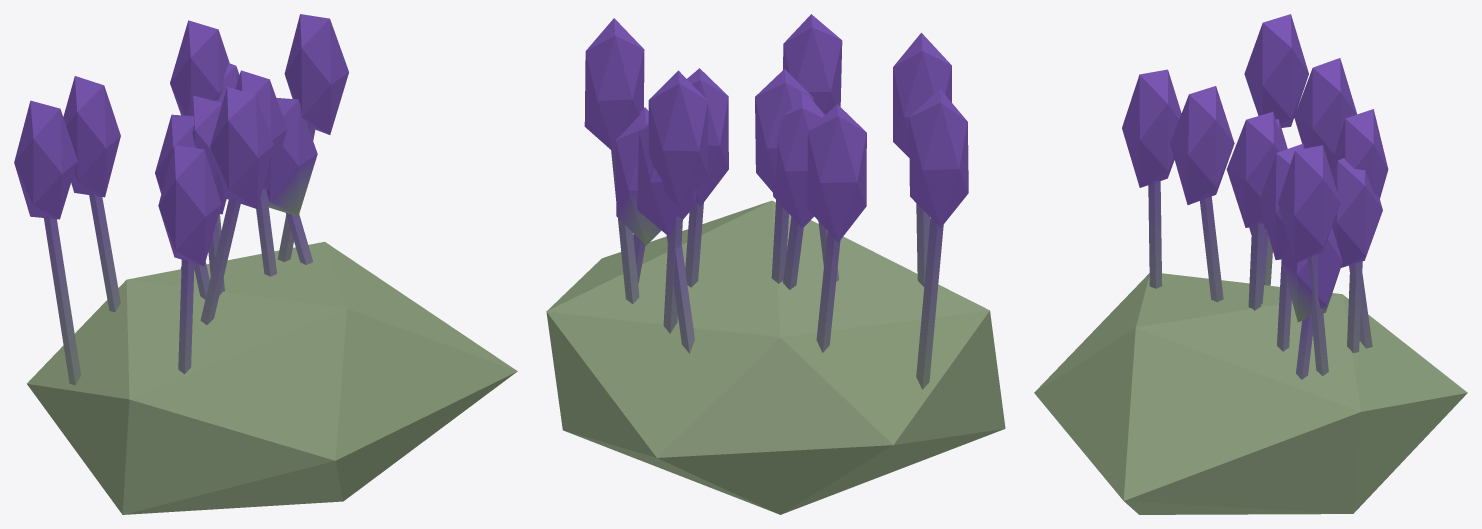
Rendered from lavender_1.glb.
3 views of the same model, side by side, from view 1: azimuth 30°, elevation 25°; view 2: azimuth 150°, elevation 25°; view 3: azimuth 270°, elevation 25° (orthographic). The views are drawn at different scales.
Parts seen in each view (by area): view 1: lavender_1; view 2: lavender_1; view 3: lavender_1.
Boxes of the visible parts, x1=… form: lavender_1: x1=14, y1=14, x2=517, y2=514; lavender_1: x1=546, y1=14, x2=1005, y2=514; lavender_1: x1=1034, y1=14, x2=1467, y2=514.
Size of the model in its own units: 0.7853 by 0.7324 by 0.727.
